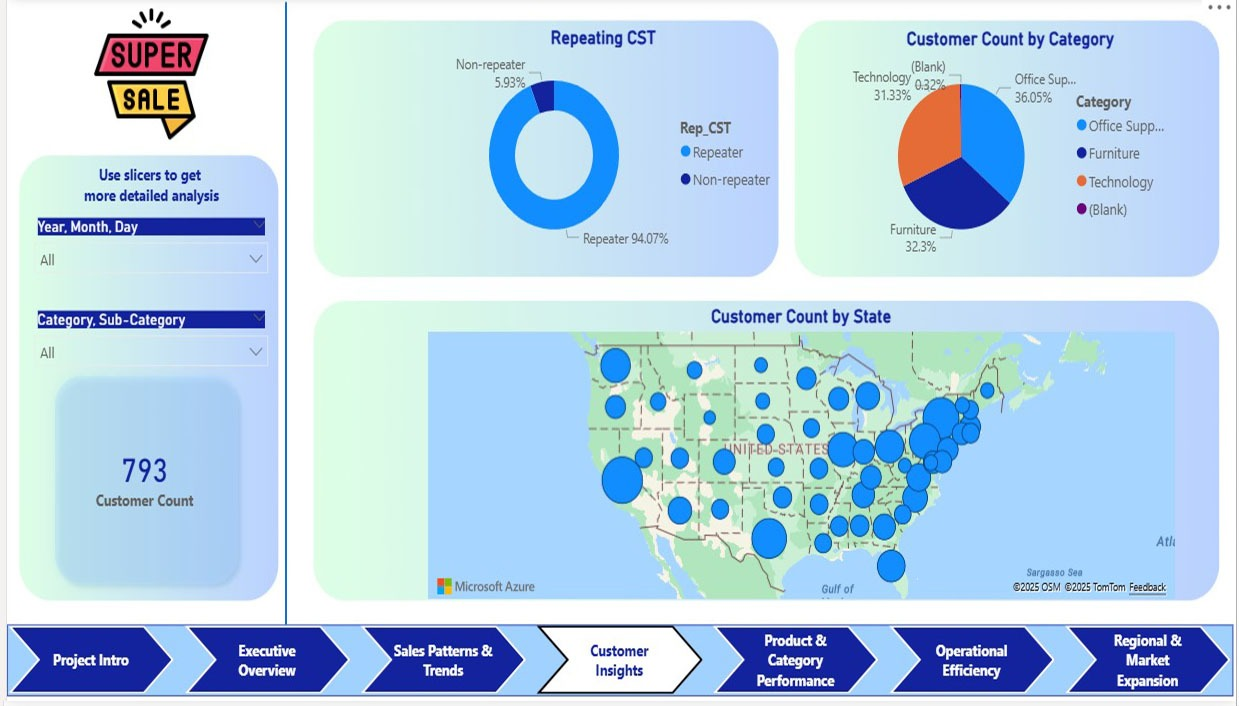

Layout of this report page (visuals, bound fields, positions):
{"tool":"powerbi","page":{"name":"Customer Insights","canvas":[1280,720],"ordinal":3},"visuals":[{"type":"pageNavigator","box":[0,650,1273.8,64.6],"z":1000},{"type":"donutChart","title":"Repeating CST","fields":{"Y":["Cust. & Ship. Measures.Customer Count"],"Category":["Dim_Customer.Rep_CST"]},"box":[431.7,107.5,375.6,213.5],"z":2000},{"type":"pieChart","fields":{"Y":["Cust. & Ship. Measures.Customer Count"],"Category":["Dim_Product.Category"]},"box":[866.5,109.1,352.2,213.5],"z":3000},{"type":"azureMap","fields":{"Category":["Dim_Destination.State"],"Size":["Cust. & Ship. Measures.Customer Count"]},"box":[431.7,360,787,271.2],"z":4000},{"type":"cardVisual","fields":{"Data":["Cust. & Ship. Measures.Customer Count"]},"box":[12.5,406.8,264.9,224.4],"z":5000},{"type":"image","box":[18.3,84.2,262.4,133.2],"z":6000},{"type":"shape","box":[253.6,85.5,71.7,564.2],"z":7000},{"type":"slicer","fields":{"Values":["Date.Date.Variation.Date Hierarchy.Year","Date.Date.Variation.Date Hierarchy.Month","Date.Date.Variation.Date Hierarchy.Day"]},"box":[18.3,275.3,262.4,72.5],"z":8000},{"type":"slicer","fields":{"Values":["Superstore Sales Dataset.Category","Superstore Sales Dataset.Sub-Category"]},"box":[18.3,359.7,262.4,72.5],"z":9000},{"type":"textbox","box":[18.3,228.1,262.7,47.2],"z":10000}]}

Visuals, with their boxes in screenshot pixels (x1, y1, x2, y2), scaled from the page's 1280x720 canvas onto the 1239x706 screenshot:
pageNavigator: [0,637,1233,701]
"Repeating CST" donutChart: [418,105,781,315]
pieChart - Cust. & Ship. Measures.Customer Count x Dim_Product.Category: [839,107,1180,316]
azureMap - Dim_Destination.State x Cust. & Ship. Measures.Customer Count: [418,353,1180,619]
cardVisual - Cust. & Ship. Measures.Customer Count: [12,399,269,619]
image: [18,83,272,213]
shape: [245,84,315,637]
slicer - Date.Date.Variation.Date Hierarchy.Year x Date.Date.Variation.Date Hierarchy.Month: [18,270,272,341]
slicer - Superstore Sales Dataset.Category x Superstore Sales Dataset.Sub-Category: [18,353,272,424]
textbox: [18,224,272,270]
